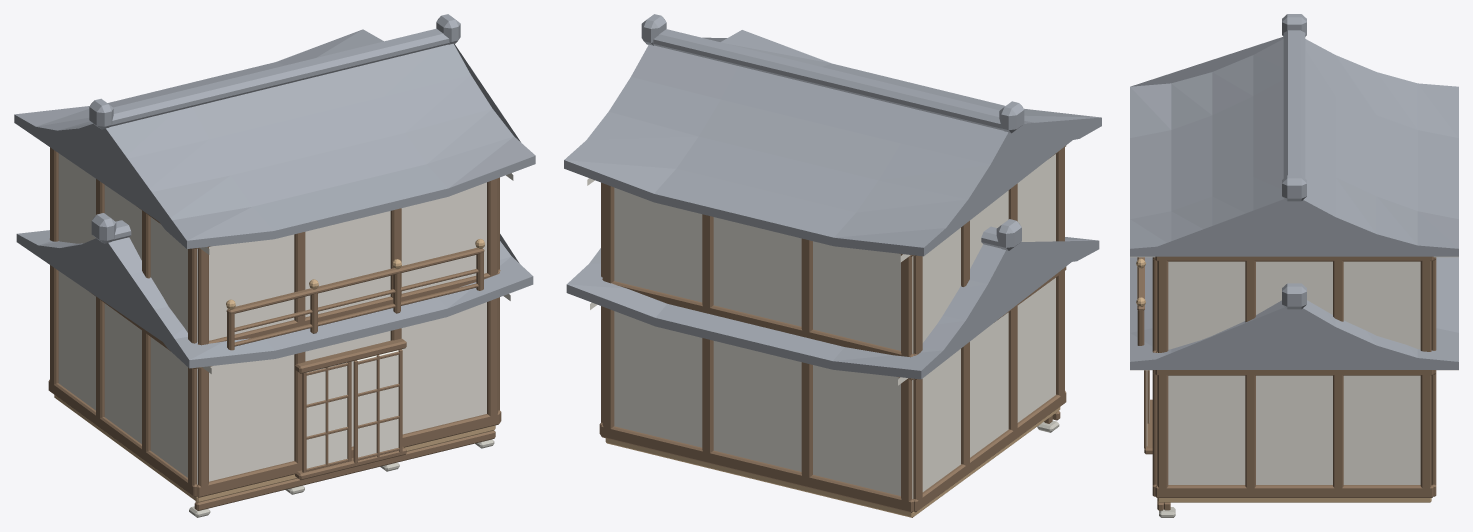
File: roadside-inn.glb
3 renders of one model, left to right at view 1: azimuth 30°, elevation 25°; view 2: azimuth 150°, elevation 25°; view 3: azimuth 270°, elevation 25°, orthographic. The views are drawn at different scales.
Visible parts, largest first — view 1: roadside-inn; view 2: roadside-inn; view 3: roadside-inn.
Boxes of the visible parts, x1,y1,x2,y2 form: roadside-inn: [14, 14, 535, 517]; roadside-inn: [564, 14, 1101, 517]; roadside-inn: [1130, 14, 1458, 517].
Size of the model in its own units: 7.3 by 7.11 by 6.
